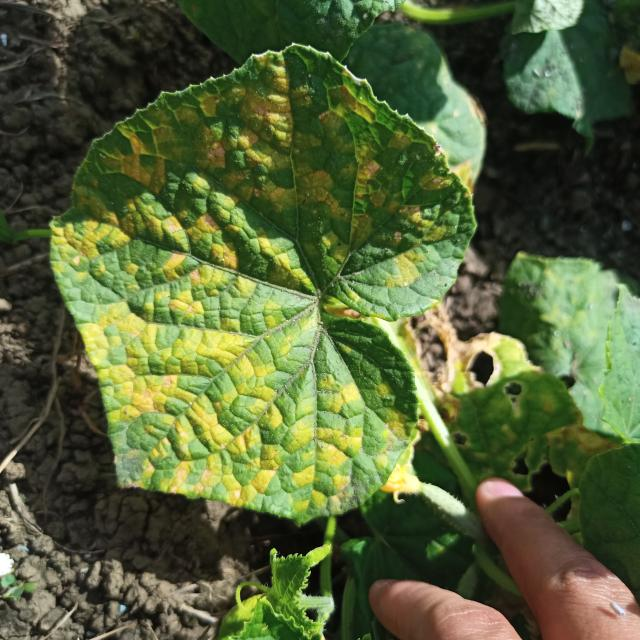disease_cucumber: (55, 52, 450, 511)
